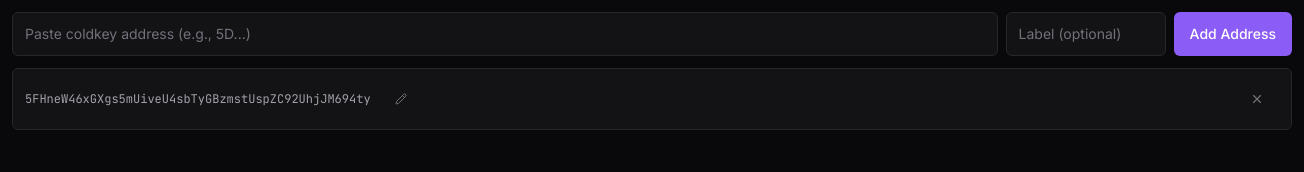
AddressManager › cancels remove when No is clicked
The width and height of the screenshot is (1304, 172).
Step 1. Click the button named "remove address" → (1257, 99), box left=1235, top=77, right=1279, bottom=121
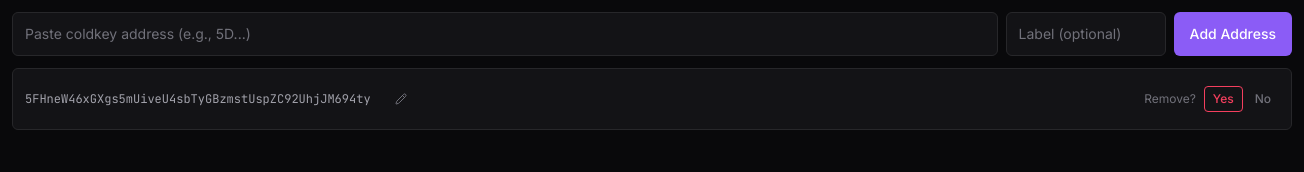
Step 2. Click the button with aria-label "cancel remove" → (1263, 99), box left=1247, top=87, right=1279, bottom=111
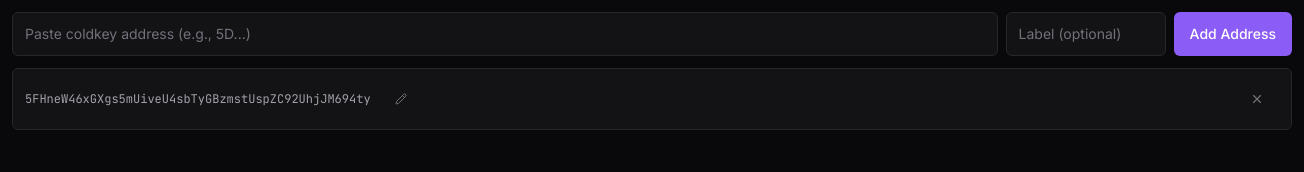
expect the text "Remove?" is gone: met
